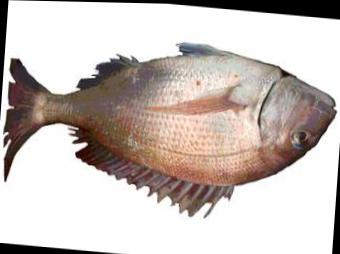fish: (4, 41, 337, 219)
